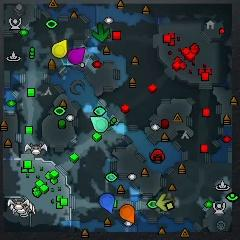p1: (98, 194, 115, 214)
p2: (90, 116, 108, 132)
p3: (67, 48, 86, 64)
p4: (52, 39, 67, 58)
p5: (120, 205, 135, 223)
x2: (155, 194, 174, 212)
x4: (92, 22, 109, 42)
